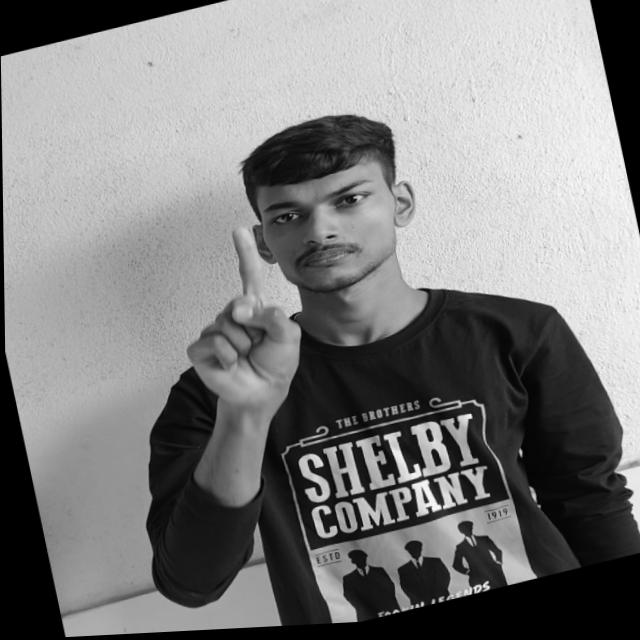Question: (161, 221, 314, 427)
